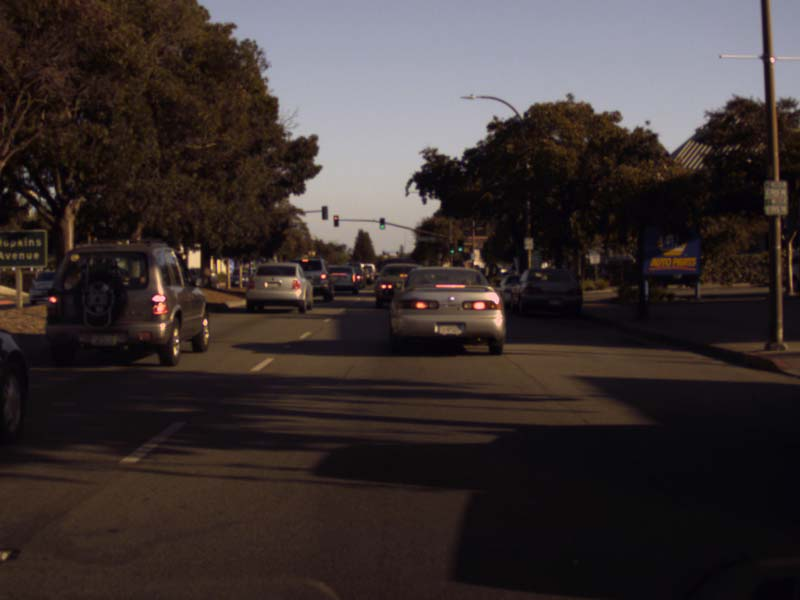Green: (379, 217, 384, 229), (457, 239, 462, 251), (449, 243, 453, 254)
Red: (333, 215, 338, 226)
